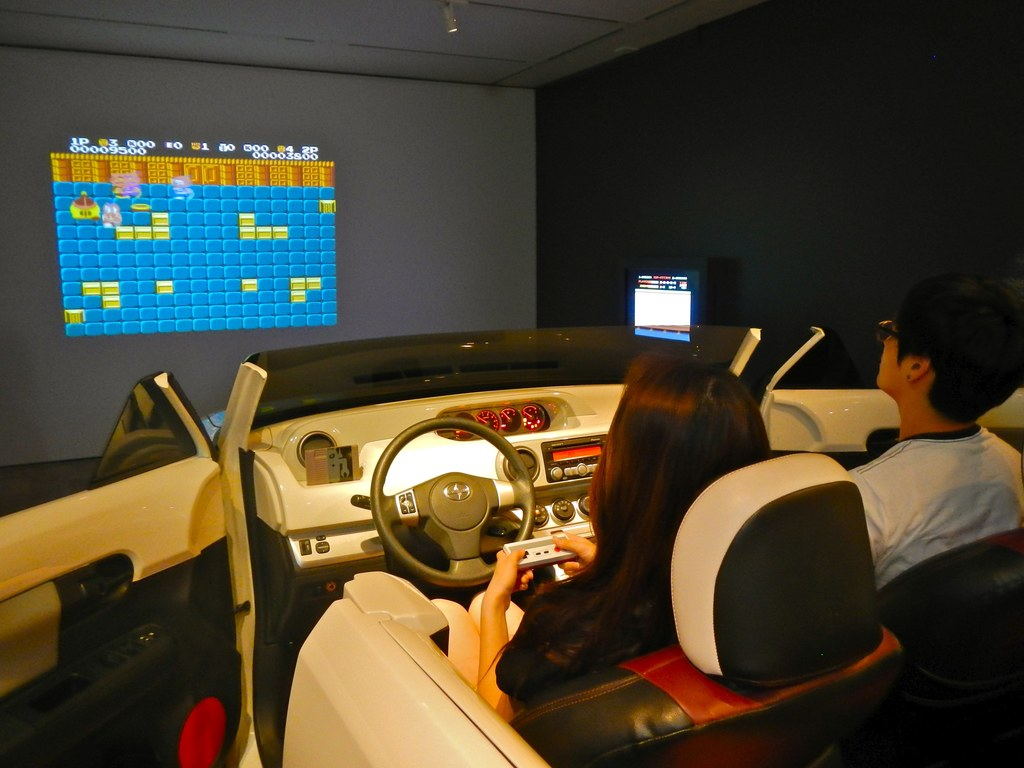cars: (0, 324, 1023, 767)
